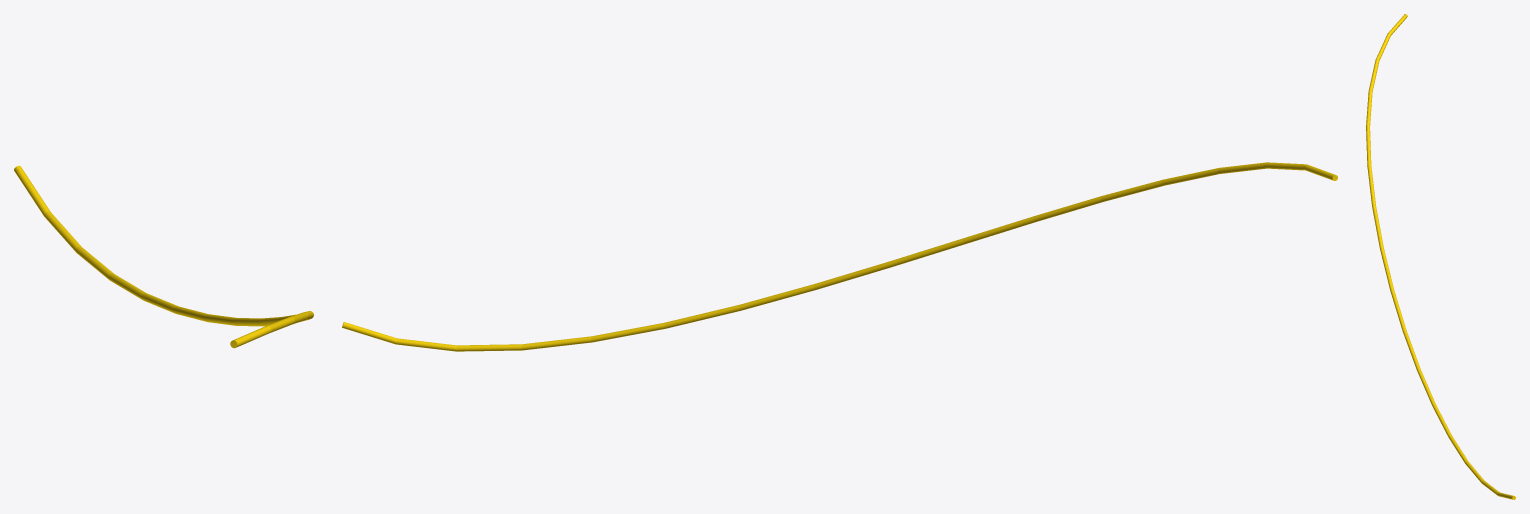
Rendered from Event_421364160_track_8.fbx.
The picture shows the model from 3 angles, left to right: view 1: azimuth 90°, elevation 25°; view 2: azimuth 150°, elevation 25°; view 3: azimuth 270°, elevation 25°; orthographic projection. The views are drawn at different scales.
Parts seen in each view (by area): view 1: Model; view 2: Model; view 3: Model.
Boxes of the visible parts, x1=… form: Model: x1=14, y1=165, x2=313, y2=348; Model: x1=342, y1=162, x2=1337, y2=351; Model: x1=1366, y1=14, x2=1515, y2=499.
Bounding box in the file's own units: 6.71 × 2.34 × 1.49.
